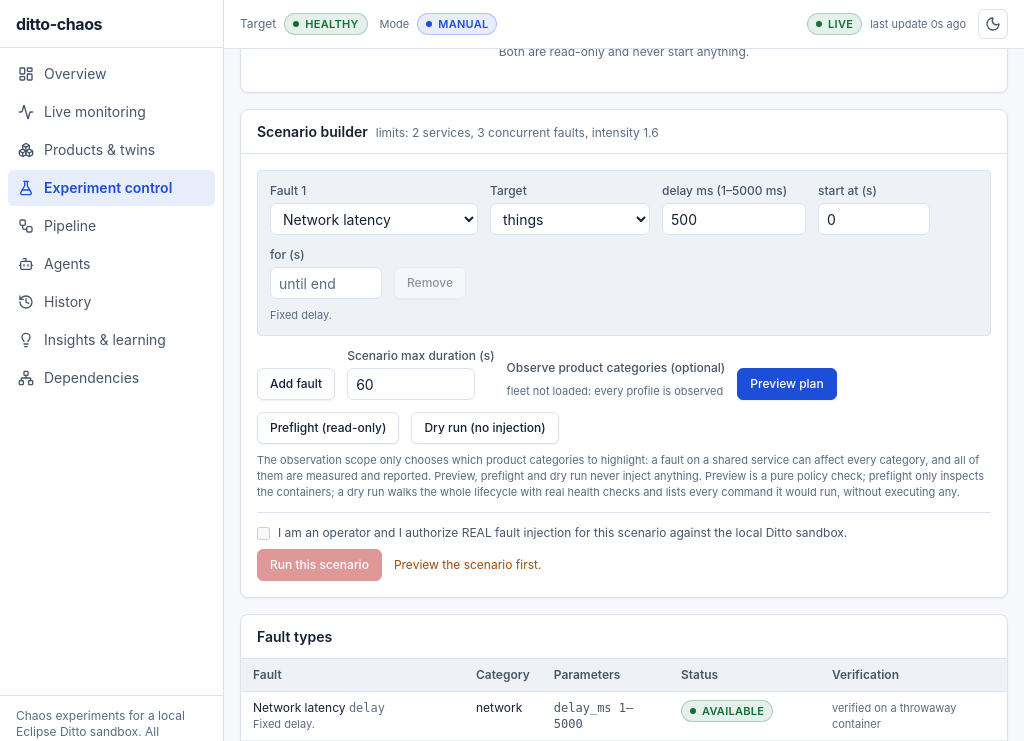
Scenario: Experiment control › surfaces a failed request instead of failing silently
This screenshot has width=1024, height=741.
(page scrolled)
Click the button "Preview plan".
click(787, 384)  # box [737, 368, 837, 400]
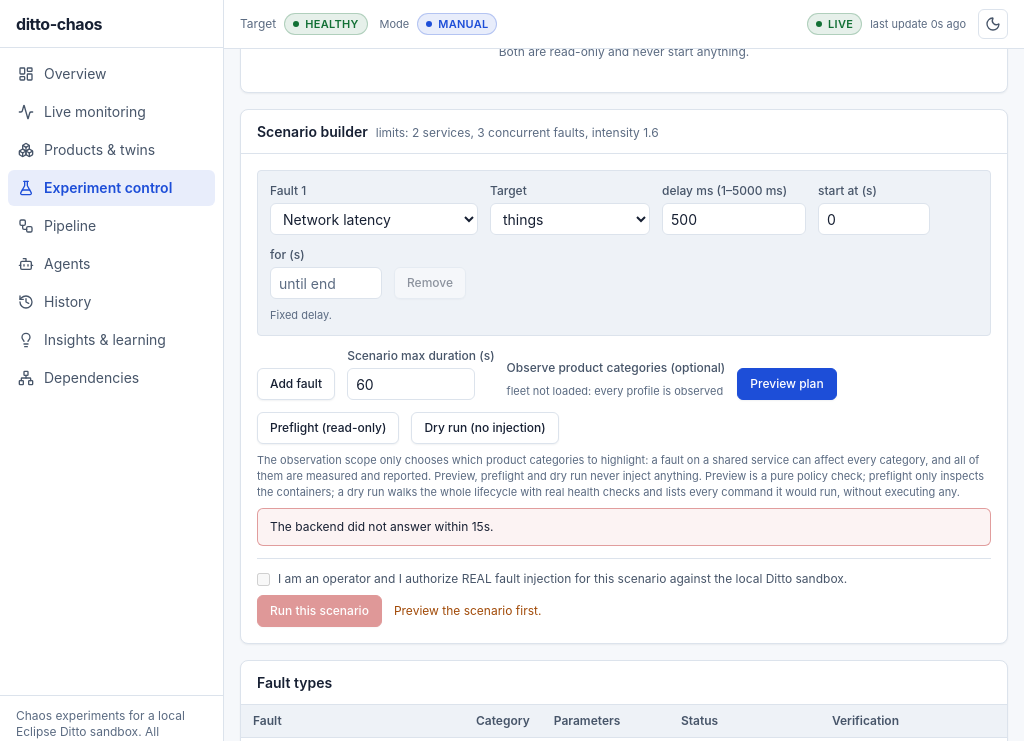
Expected: the text "The backend did not answer within 15s." is shown, [270, 517, 494, 537]
